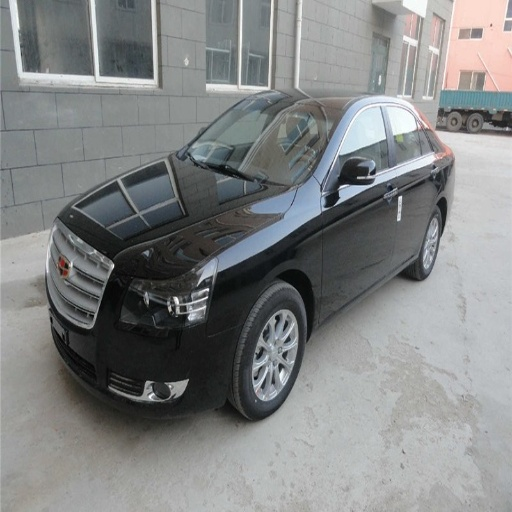front_bumper: (52, 233, 236, 400)
front_glass: (191, 95, 331, 184)
front_left_door: (323, 102, 403, 311)
